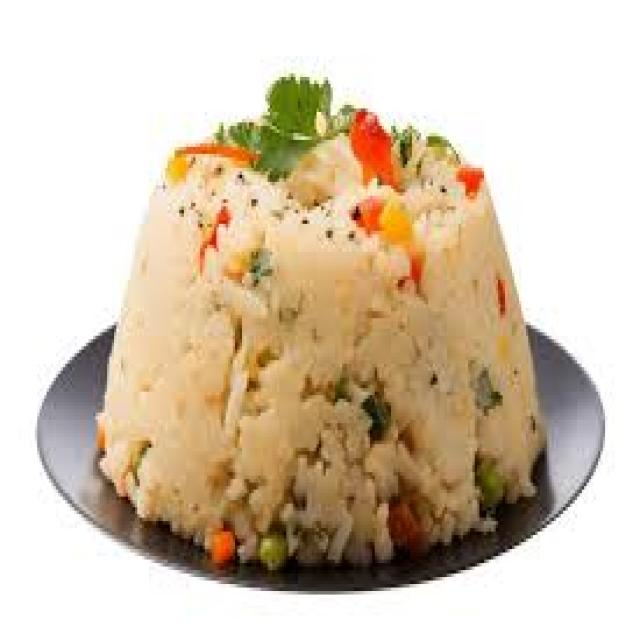UPMA: (91, 101, 545, 567)
